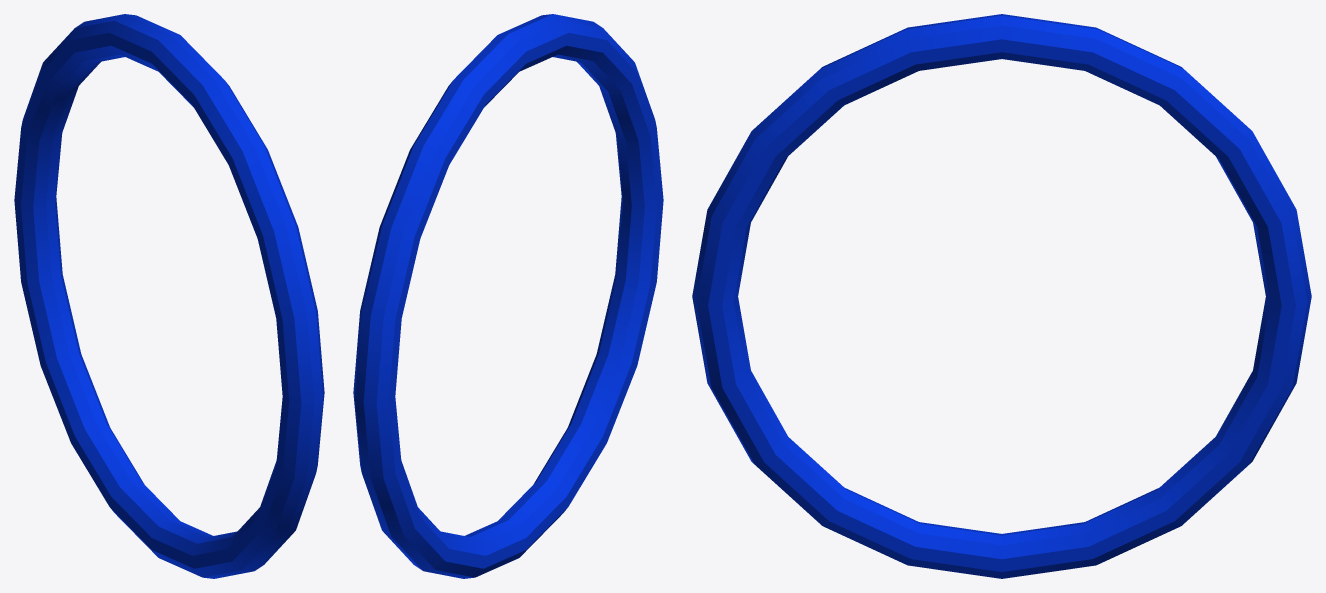
Rendered from Ring_Blue.fbx.
3 renders of one model, left to right at view 1: azimuth 30°, elevation 25°; view 2: azimuth 150°, elevation 25°; view 3: azimuth 270°, elevation 25°, orthographic. The views are drawn at different scales.
Parts seen in each view (by area): view 1: pTorus2; view 2: pTorus2; view 3: pTorus2.
Boxes of the visible parts, x1,y1,x2,y2 form: pTorus2: (14, 14, 324, 578); pTorus2: (353, 14, 663, 578); pTorus2: (692, 14, 1311, 578).
Bounding box in the file's own units: 0.1522 × 2.16 × 2.16.
